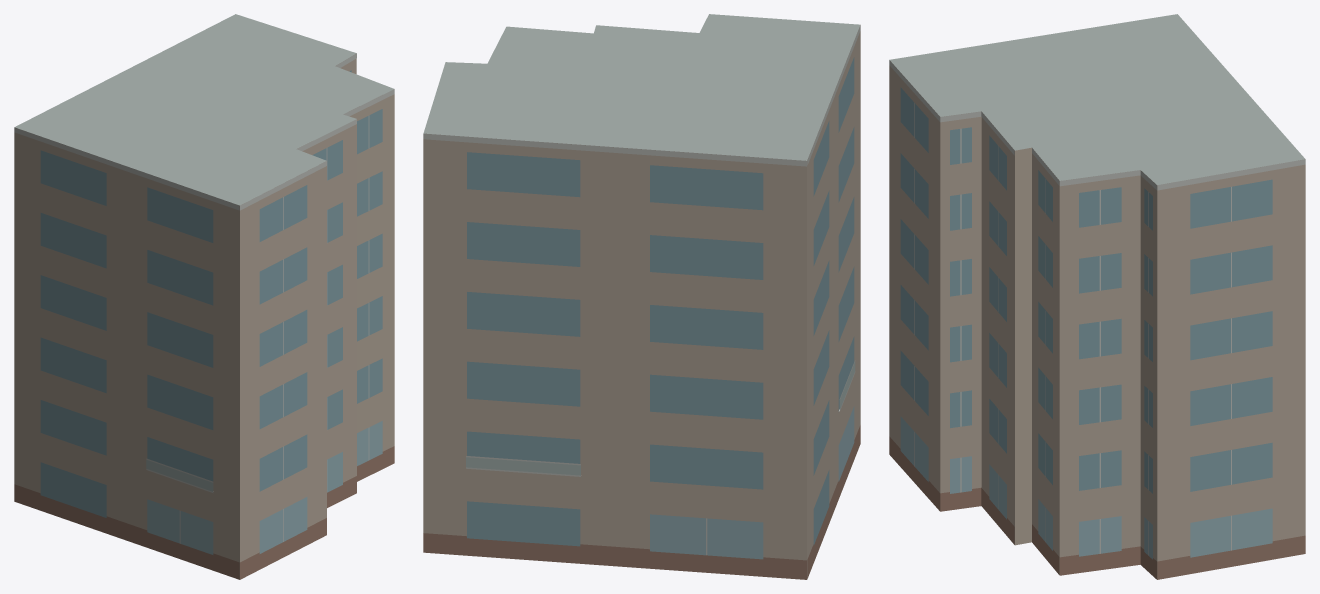
The model's file is survey-upis-32934004.glb.
The picture shows the model from 3 angles, left to right: view 1: azimuth 30°, elevation 25°; view 2: azimuth 150°, elevation 25°; view 3: azimuth 270°, elevation 25°; orthographic projection. The views are drawn at different scales.
Parts seen in each view (by area): view 1: survey-upis-32934004.tmp; view 2: survey-upis-32934004.tmp; view 3: survey-upis-32934004.tmp.
Boxes of the visible parts, left/top/right/bottom form: survey-upis-32934004.tmp: left=14, top=14, right=394, bottom=579; survey-upis-32934004.tmp: left=423, top=14, right=860, bottom=579; survey-upis-32934004.tmp: left=889, top=14, right=1305, bottom=579.
Bounding box in the file's own units: 16.66 × 17.9 × 17.12.
